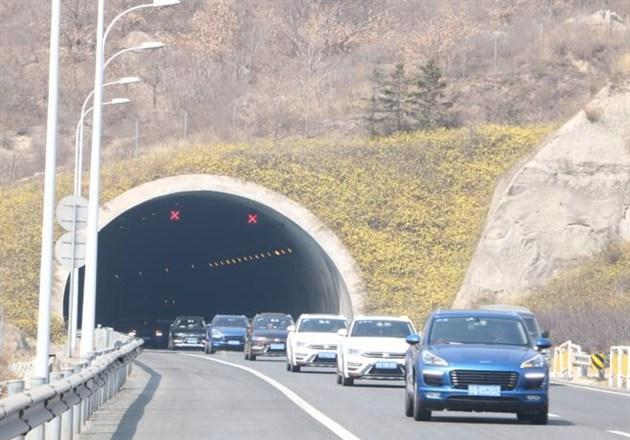car: (404, 308, 552, 423), (337, 315, 425, 387), (476, 303, 552, 386), (284, 313, 355, 372), (243, 312, 296, 362), (203, 315, 253, 356), (167, 316, 207, 352), (126, 319, 165, 349)
